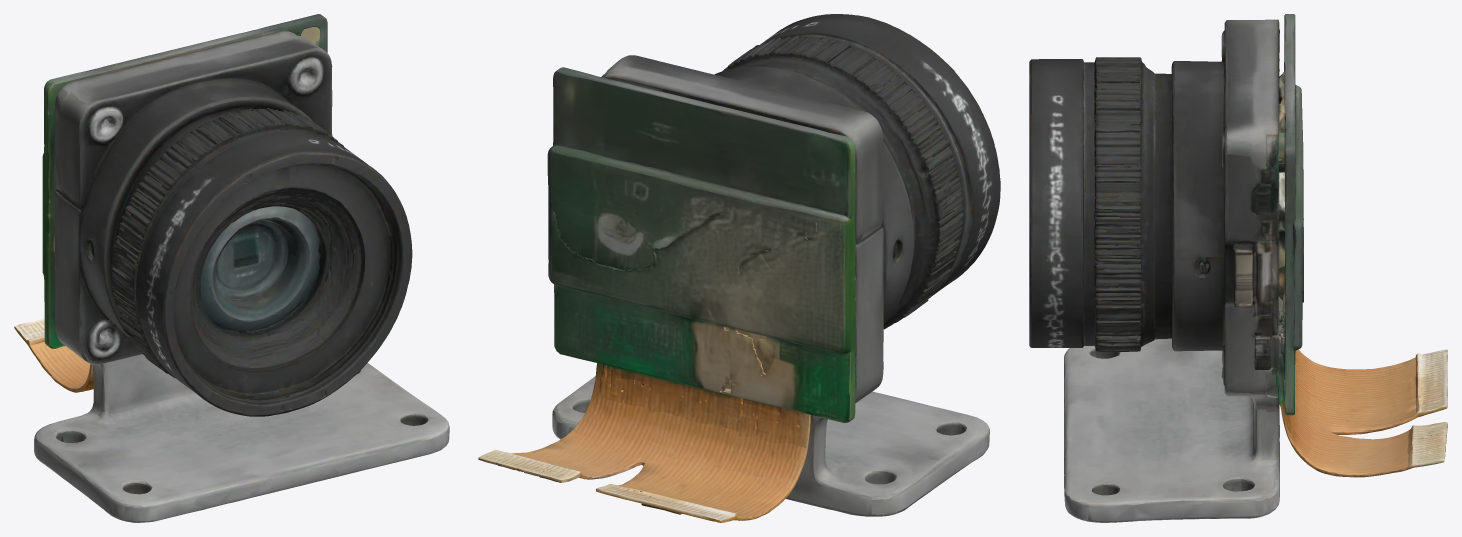
3 renders of one model, left to right at view 1: azimuth 30°, elevation 25°; view 2: azimuth 150°, elevation 25°; view 3: azimuth 270°, elevation 25°, orthographic. The views are drawn at different scales.
Parts seen in each view (by area): view 1: geometry_0; view 2: geometry_0; view 3: geometry_0.
Boxes of the visible parts, x1=… form: geometry_0: x1=14, y1=14, x2=449, y2=522; geometry_0: x1=478, y1=14, x2=1000, y2=522; geometry_0: x1=1029, y1=14, x2=1447, y2=522.
Bounding box in the file's own units: 0.085 × 0.0881 × 0.0911.
1 material, 1 textured.
